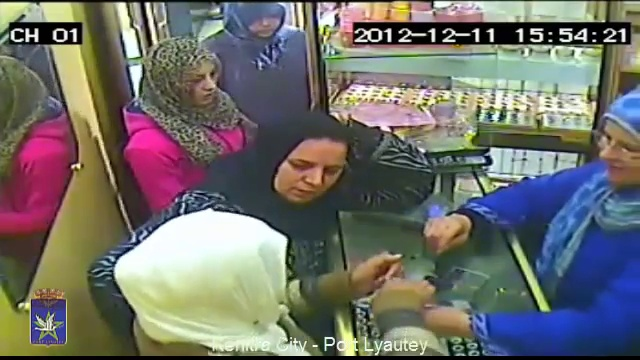face: (283, 142, 343, 202), (595, 119, 640, 184), (189, 64, 219, 104), (247, 12, 285, 36)
